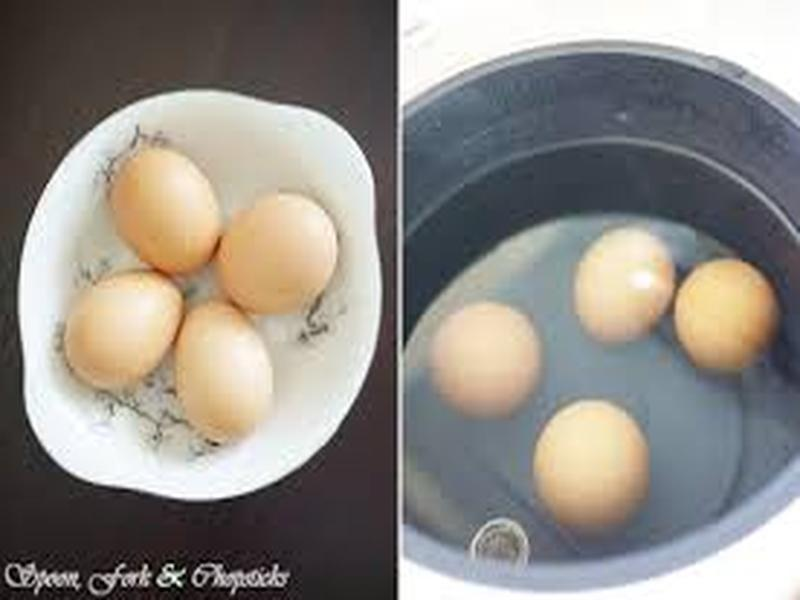egg: (38, 1, 787, 600)
